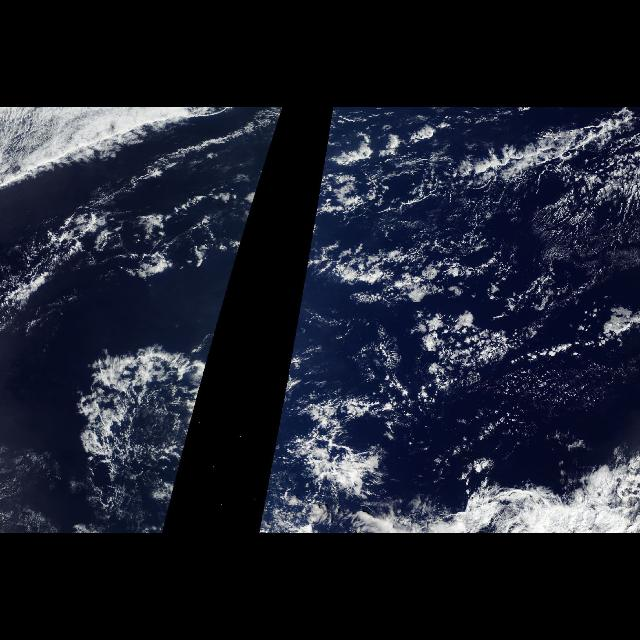Fish: (301, 110, 637, 296)
Sugar: (468, 354, 620, 482), (469, 194, 633, 310)
